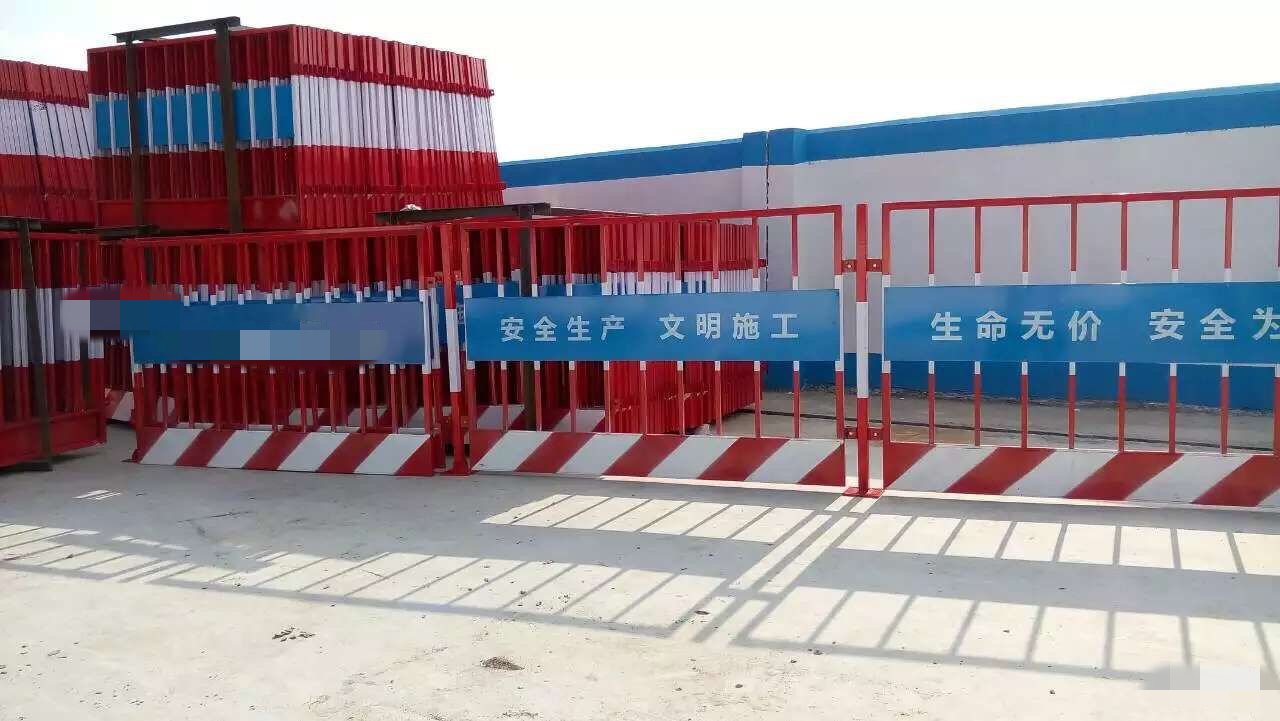slogan: (884, 287, 1280, 362), (464, 294, 834, 359)
